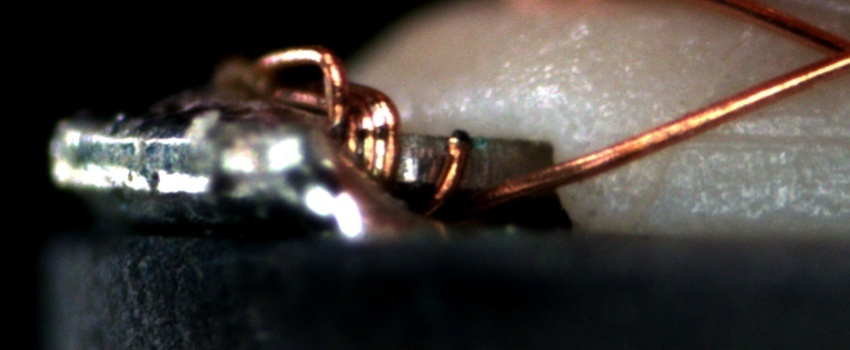CL: (799, 21, 849, 80)
DL: (647, 107, 849, 171)
TE: (248, 40, 475, 216)
